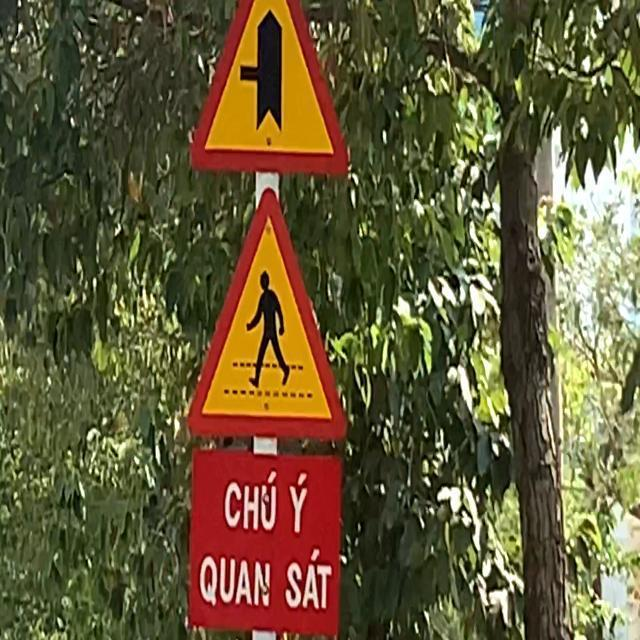207-giao-nhau-voi-duong-khong-uu-tien: (188, 0, 350, 175)
224-duong-nguoi-di-bo-cat-ngang: (182, 189, 350, 440)
